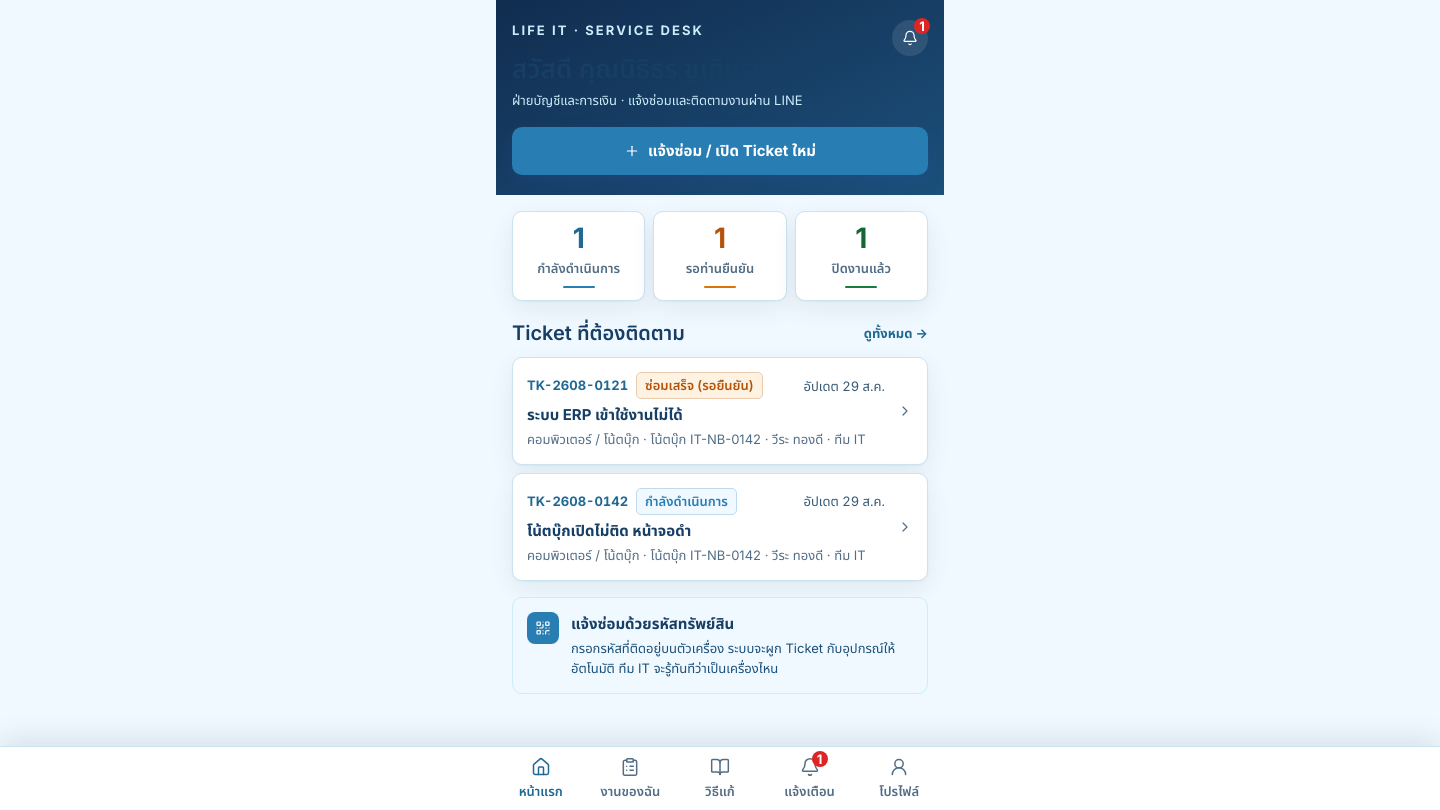
it: LinePortalPage › กรองรายการในแท็บงานของฉันตามสถานะที่เลือก
Click the button "งานของฉัน". click: (630,779)
box: [586,747,675,809]
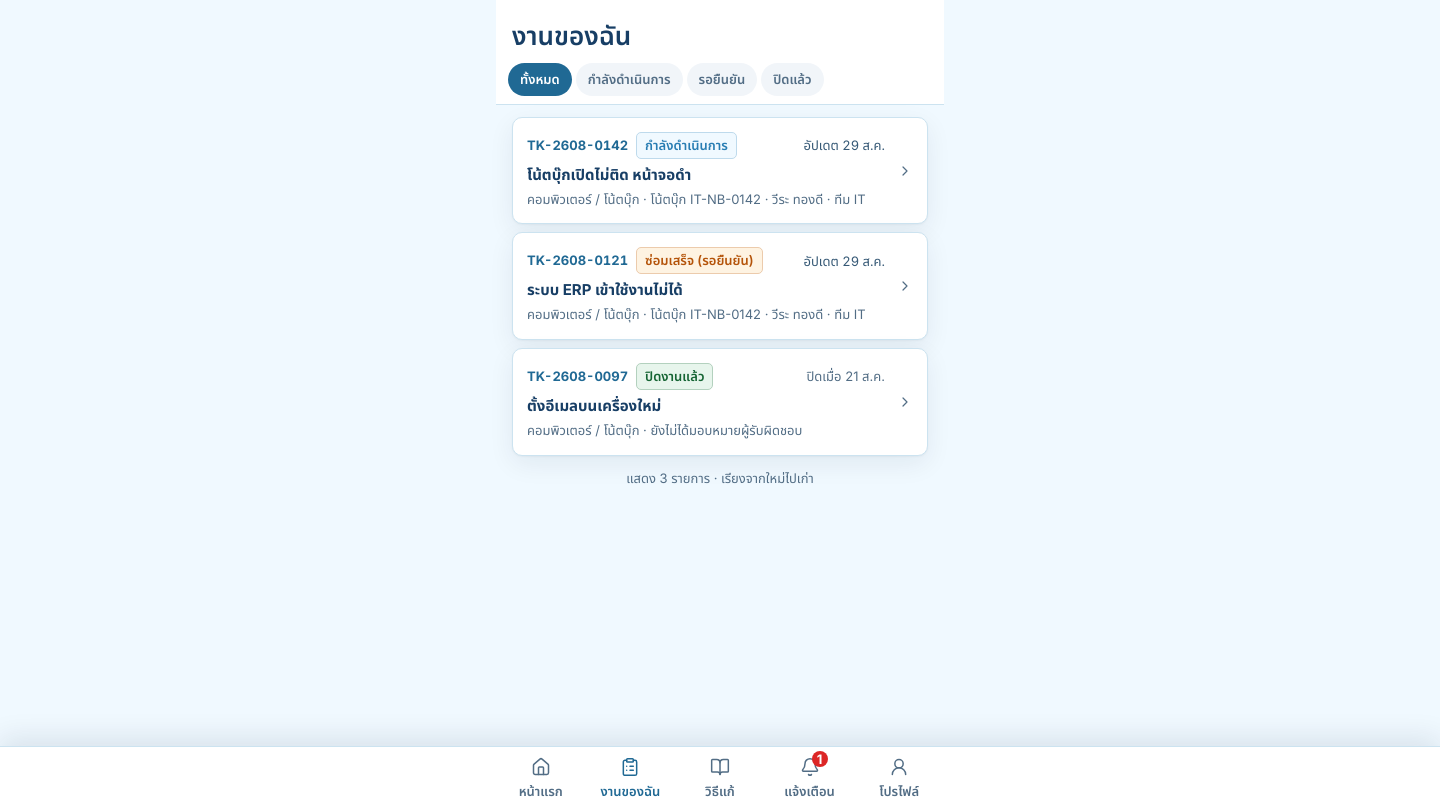
expect the text "แสดง 3 รายการ · เรียงจากใหม่ไปเก่า" is shown: met, box [626,470,814,486]
Click the tab "ปิดแล้ว". click: (792,79)
box: [761,63,824,96]
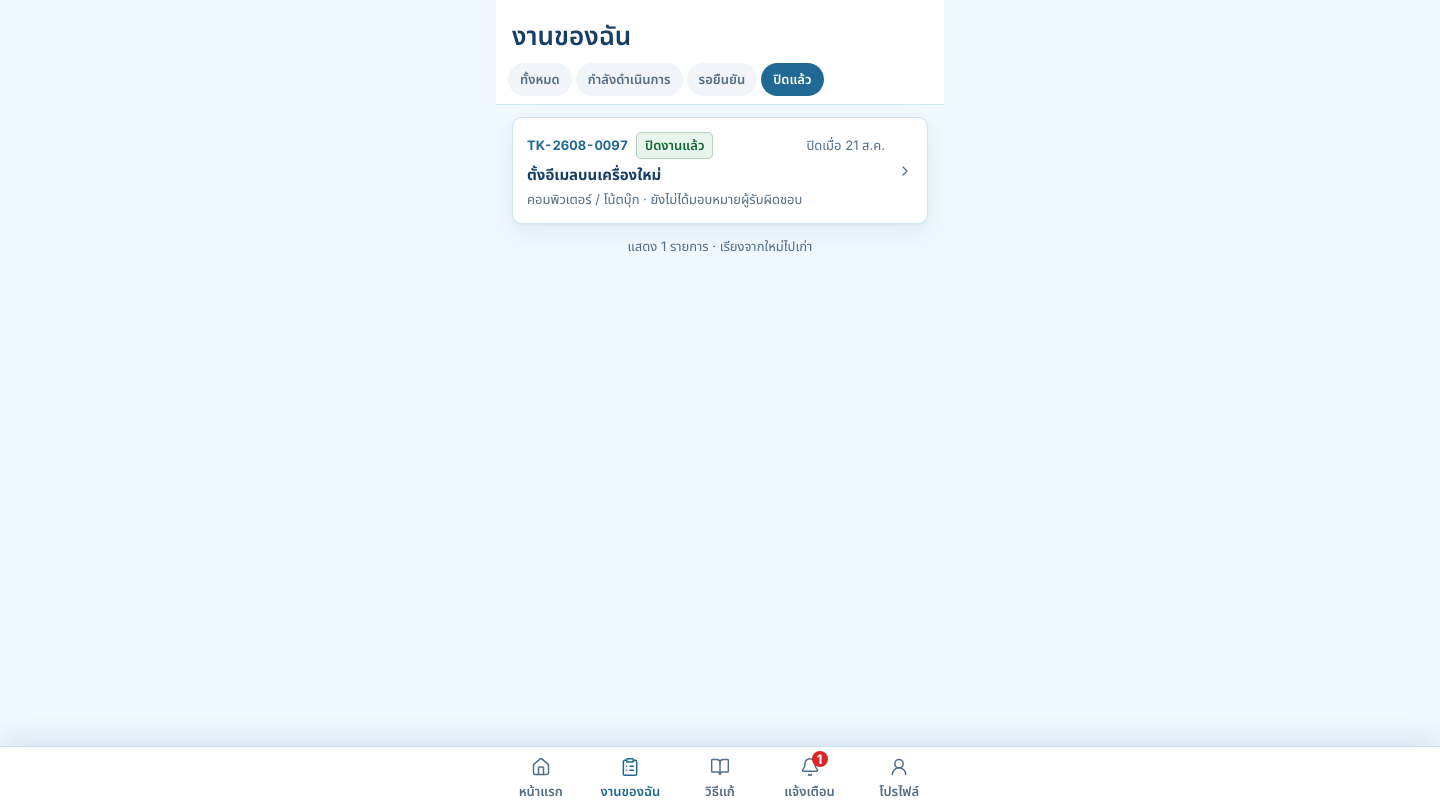
expect the text "TK-2608-0097" is shown: met, box [527,135,628,156]
expect the button "TK-2608-0142" is gone: met
expect the text "แสดง 1 รายการ · เรียงจากใหม่ไปเก่า" is shown: met, box [628,238,812,254]
